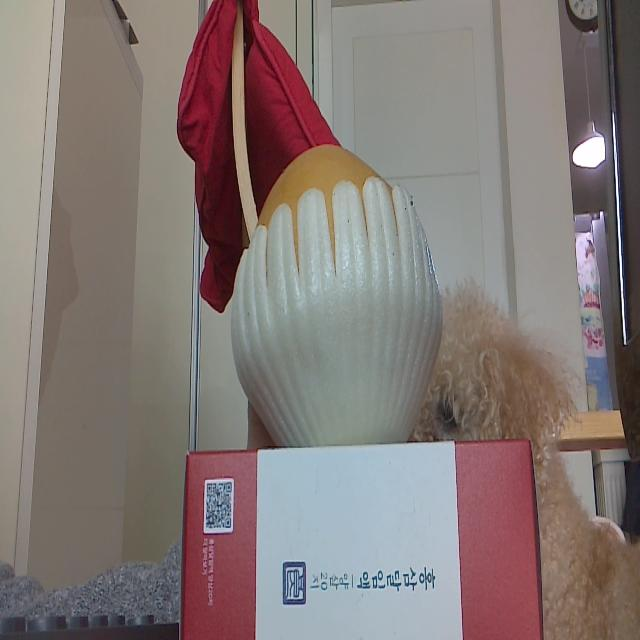pear: (236, 137, 447, 444)
